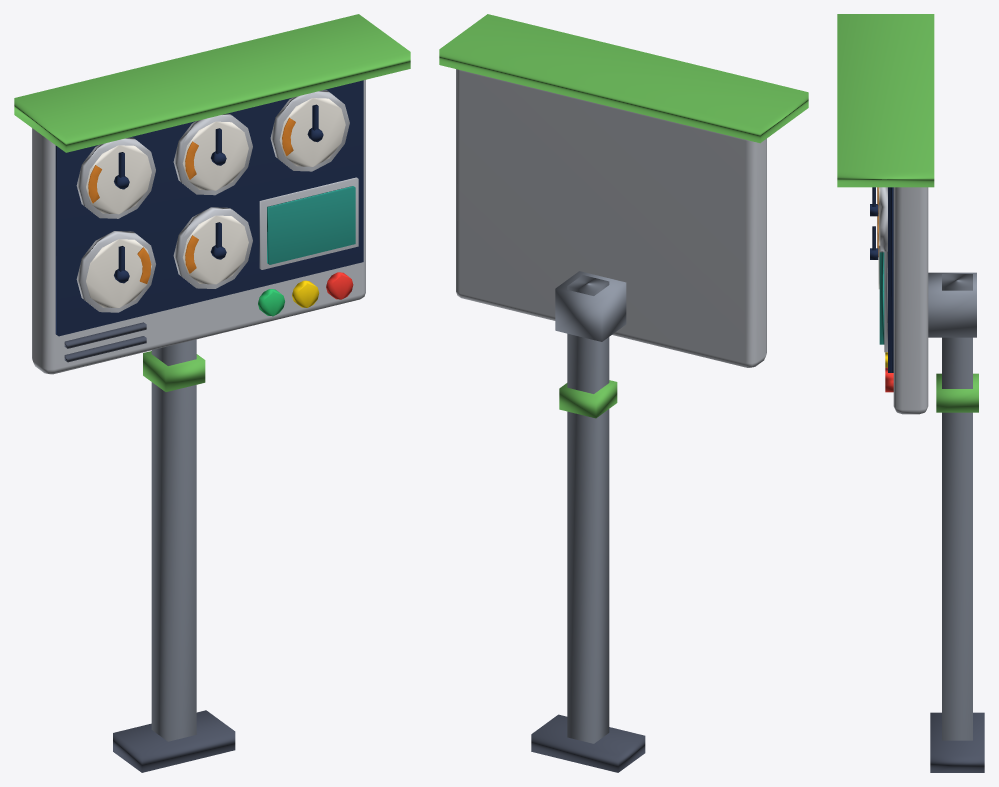
File: Fx_SeatMonitor_LifeSupport.fbx
The picture shows the model from 3 angles, left to right: view 1: azimuth 30°, elevation 25°; view 2: azimuth 150°, elevation 25°; view 3: azimuth 270°, elevation 25°; orthographic projection. The views are drawn at different scales.
Parts seen in each view (by area): view 1: Fx_SeatMonitor_LifeSupport.Frame, Fx_SeatMonitor_LifeSupport.Hood, Fx_SeatMonitor_LifeSupport.Dials, Fx_SeatMonitor_LifeSupport.Stand, Fx_SeatMonitor_LifeSupport.MonScreen; view 2: Fx_SeatMonitor_LifeSupport.Frame, Fx_SeatMonitor_LifeSupport.Stand, Fx_SeatMonitor_LifeSupport.Hood; view 3: Fx_SeatMonitor_LifeSupport.Stand, Fx_SeatMonitor_LifeSupport.Hood, Fx_SeatMonitor_LifeSupport.Frame, Fx_SeatMonitor_LifeSupport.Dials, Fx_SeatMonitor_LifeSupport.MonScreen.
Boxes of the visible parts, x1,y1,x2,y2 form: Fx_SeatMonitor_LifeSupport.Frame: [32, 80, 365, 374]; Fx_SeatMonitor_LifeSupport.Hood: [14, 14, 410, 152]; Fx_SeatMonitor_LifeSupport.Dials: [76, 90, 349, 312]; Fx_SeatMonitor_LifeSupport.Stand: [113, 339, 235, 772]; Fx_SeatMonitor_LifeSupport.MonScreen: [267, 186, 355, 264]; Fx_SeatMonitor_LifeSupport.Frame: [456, 69, 766, 367]; Fx_SeatMonitor_LifeSupport.Stand: [531, 271, 645, 772]; Fx_SeatMonitor_LifeSupport.Hood: [439, 14, 808, 143]; Fx_SeatMonitor_LifeSupport.Stand: [928, 272, 984, 772]; Fx_SeatMonitor_LifeSupport.Hood: [837, 14, 934, 187]; Fx_SeatMonitor_LifeSupport.Frame: [884, 187, 928, 414]; Fx_SeatMonitor_LifeSupport.Dials: [877, 187, 887, 289]; Fx_SeatMonitor_LifeSupport.MonScreen: [879, 252, 884, 344].
Bounding box in the file's own units: 0.96 × 1.87 × 0.38.
Materials: 1 (1 with a texture image).
